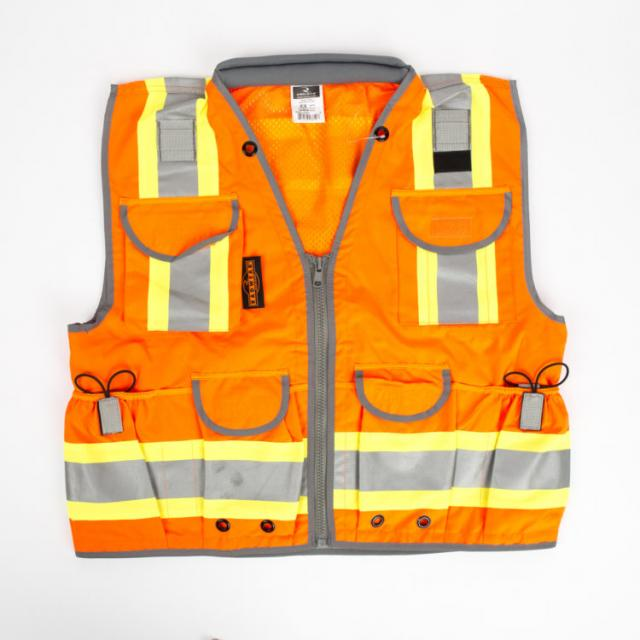Reflective-Jacket: (26, 62, 594, 566)
